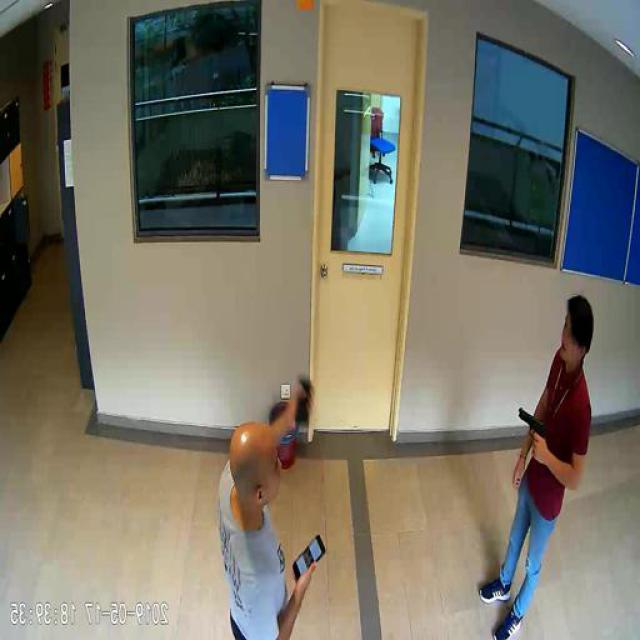Gun: (522, 405, 548, 455)
